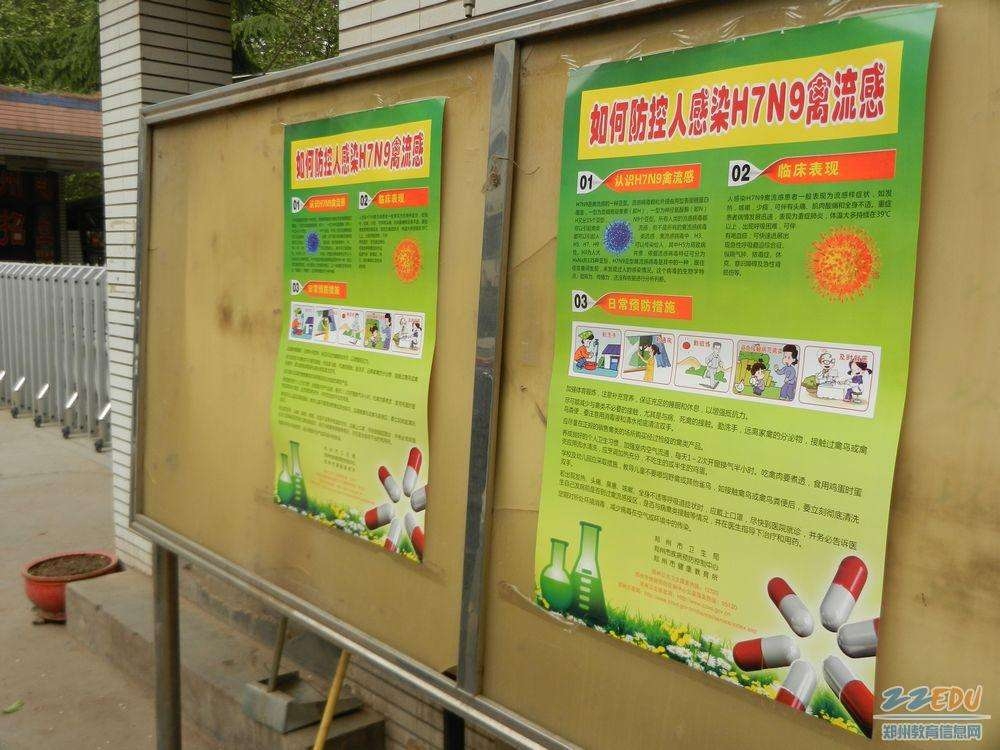bill: (535, 2, 940, 743), (274, 96, 444, 564)
